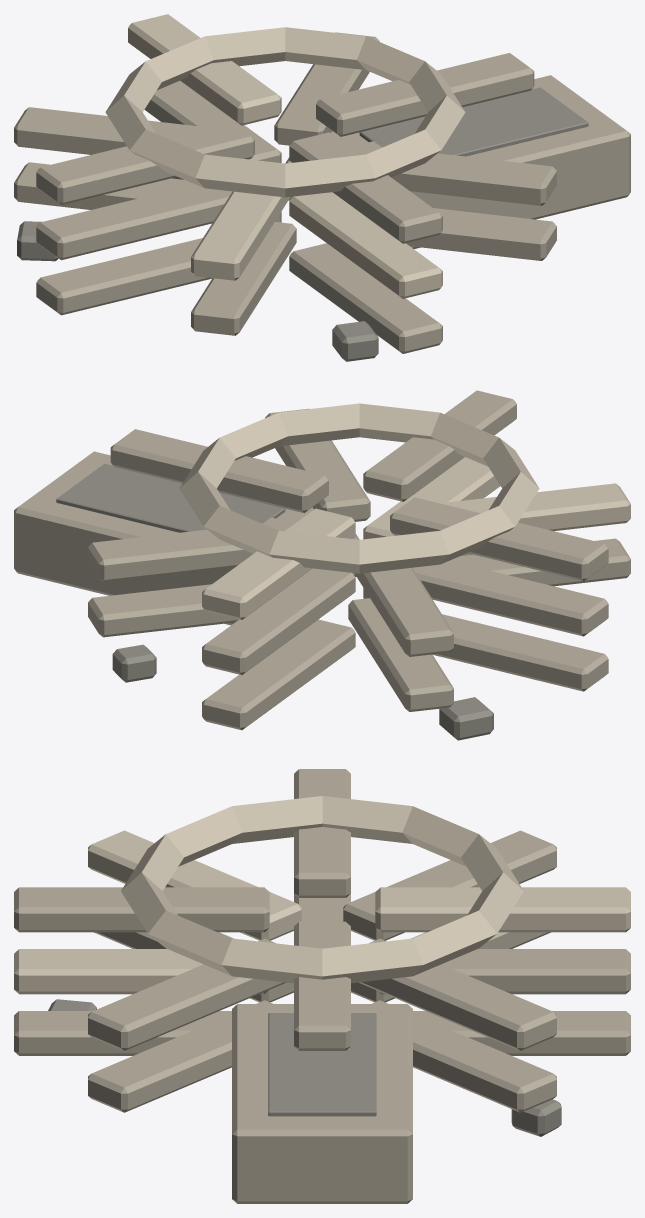
File: runtime.glb
3 views of the same model, one above another, from view 1: azimuth 30°, elevation 25°; view 2: azimuth 150°, elevation 25°; view 3: azimuth 270°, elevation 25° (orthographic). The views are drawn at different scales.
Parts seen in each view (by area): view 1: falkenwacht-stone-well-v10_nocol; view 2: falkenwacht-stone-well-v10_nocol; view 3: falkenwacht-stone-well-v10_nocol.
Part boxes in pixels (bbox=[...]): falkenwacht-stone-well-v10_nocol: bbox=[14, 14, 630, 361]; falkenwacht-stone-well-v10_nocol: bbox=[14, 390, 630, 740]; falkenwacht-stone-well-v10_nocol: bbox=[14, 769, 630, 1203].
Bounding box in the file's own units: 4.73 × 1.37 × 4.13.
